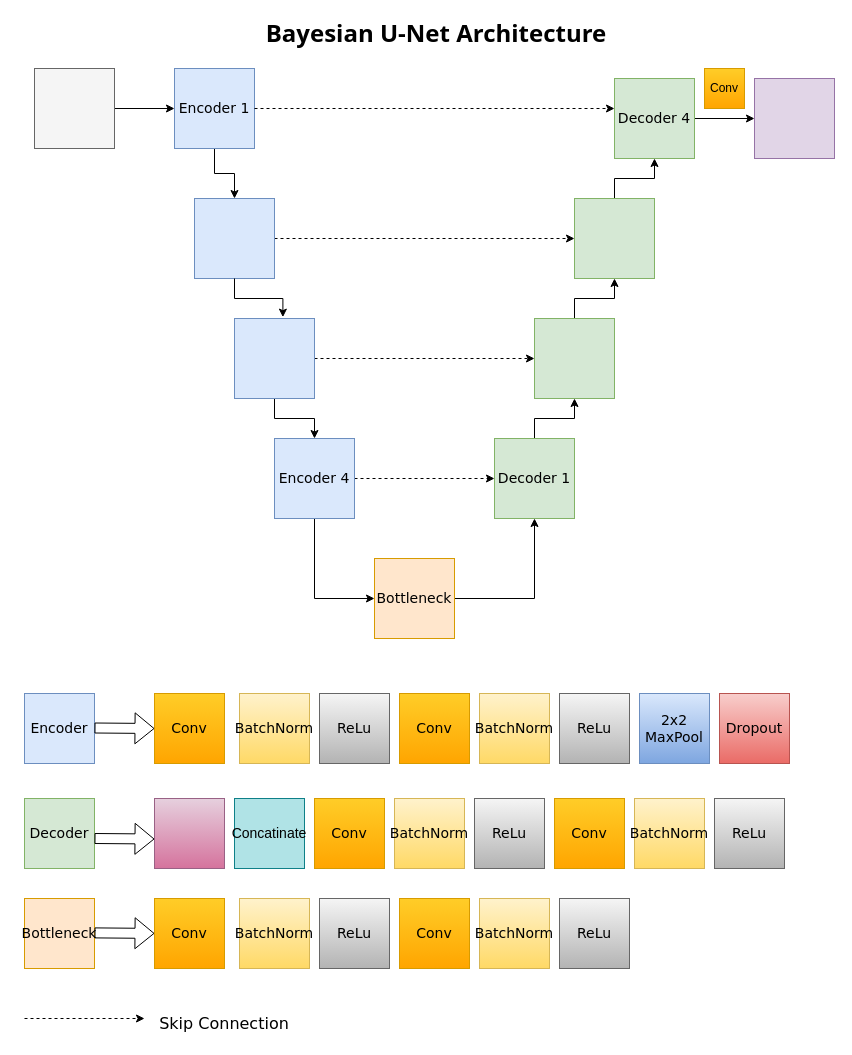
The diagram is 852 pixels wide and 1055 high, and some of its shapes have lost their labels. The box of each missing label's shape, as (x1, y1, x2, y2) in pixels:
Conv Transpose: (154, 798, 224, 868)
Decoder 2: (534, 318, 614, 398)
Decoder 3: (574, 198, 654, 278)
Encoder 2: (194, 198, 274, 278)
Encoder 3: (234, 318, 314, 398)
Image: (34, 68, 114, 148)
Logits: (754, 78, 834, 158)
